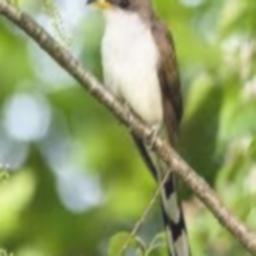Cuckoo: (86, 0, 194, 256)
